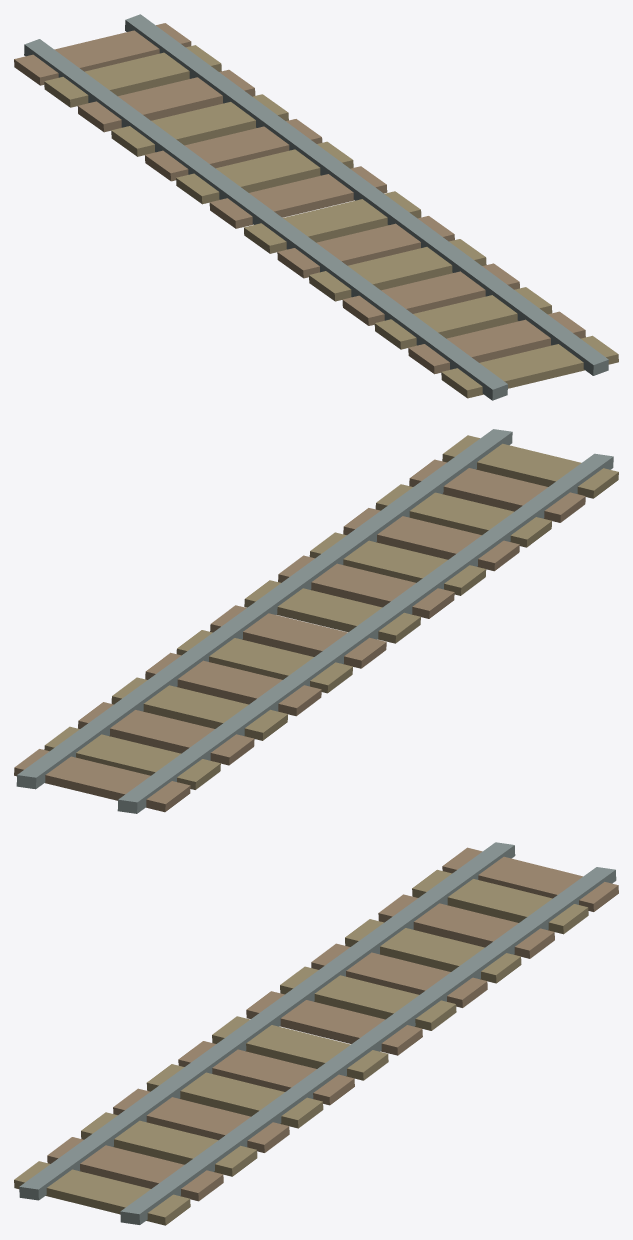
The model's file is Train Tracks.fbx.
The picture shows the model from 3 angles, top to bottom: view 1: azimuth 30°, elevation 25°; view 2: azimuth 150°, elevation 25°; view 3: azimuth 330°, elevation 25°; orthographic projection.
Parts seen in each view (by area): view 1: pCube1, pCube2, pCube16, pCube10, pCube5, pCube6, pCube8, pCube9, pCube3, pCube12, pCube14, pCube13 (+4 smaller); view 2: pCube1, pCube2, pCube17, pCube3, pCube9, pCube7, pCube8, pCube5, pCube4, pCube11, pCube13, pCube16 (+4 smaller); view 3: pCube1, pCube2, pCube9, pCube10, pCube5, pCube6, pCube3, pCube8, pCube16, pCube12, pCube14, pCube13 (+4 smaller).
Part boxes in pixels (box(x1,y1,x2,y2)): pCube1: box(125, 14, 608, 375); pCube2: box(24, 39, 507, 400); pCube16: box(441, 335, 618, 398); pCube10: box(44, 45, 221, 107); pCube5: box(209, 166, 387, 228); pCube6: box(176, 141, 353, 204); pCube8: box(111, 94, 288, 156); pCube9: box(77, 69, 255, 132); pCube3: box(244, 191, 421, 253); pCube12: box(309, 239, 486, 301); pCube14: box(374, 287, 552, 349); pCube13: box(408, 311, 585, 374); pCube1: box(16, 429, 512, 789); pCube2: box(117, 453, 613, 813); pCube17: box(14, 749, 190, 812); pCube3: box(244, 580, 420, 643); pCube9: box(78, 702, 254, 765); pCube7: box(145, 652, 321, 716); pCube8: box(111, 677, 287, 740); pCube5: box(210, 605, 386, 668); pCube4: box(278, 555, 454, 618); pCube11: box(343, 508, 519, 571); pCube13: box(409, 459, 585, 522); pCube16: box(442, 435, 618, 498); pCube1: box(120, 867, 616, 1224); pCube2: box(19, 842, 515, 1200); pCube9: box(378, 894, 554, 958); pCube10: box(412, 869, 588, 934); pCube5: box(246, 991, 422, 1055); pCube6: box(280, 966, 456, 1030); pCube3: box(212, 1016, 388, 1080); pCube8: box(345, 919, 521, 983); pCube16: box(14, 1161, 190, 1225); pCube12: box(146, 1064, 323, 1128); pCube14: box(81, 1112, 257, 1176); pCube13: box(47, 1137, 223, 1201).
Bounding box in the file's own units: 4.34 × 0.3531 × 23.43.
